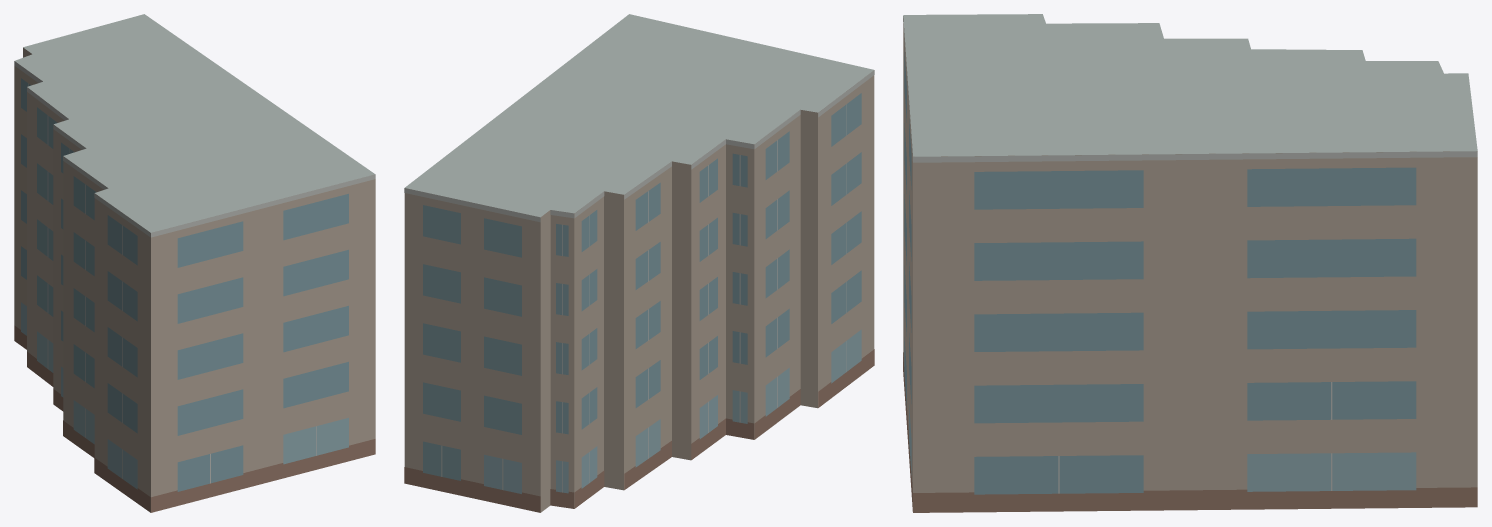
The model's file is survey-upis-32628435.glb.
3 views of the same model, side by side, from view 1: azimuth 30°, elevation 25°; view 2: azimuth 150°, elevation 25°; view 3: azimuth 270°, elevation 25° (orthographic). The views are drawn at different scales.
Visible parts, largest first — view 1: survey-upis-32628435.tmp; view 2: survey-upis-32628435.tmp; view 3: survey-upis-32628435.tmp.
Part boxes in pixels (x1=…): survey-upis-32628435.tmp: x1=14, y1=14, x2=375, y2=512; survey-upis-32628435.tmp: x1=404, y1=14, x2=874, y2=512; survey-upis-32628435.tmp: x1=903, y1=14, x2=1477, y2=512.
Bounding box in the file's own units: 12.39 × 14.4 × 21.06.
